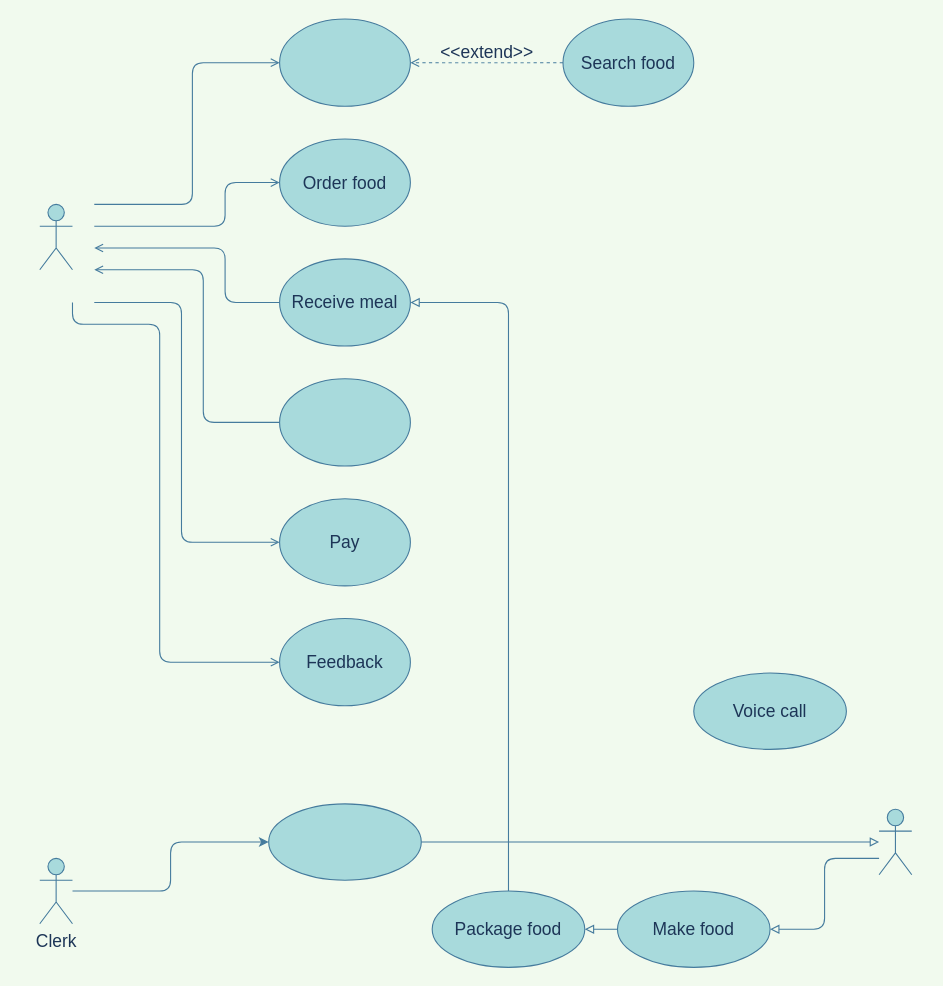
This 943x986 diagram has some shape labels left out. Each missing label, with the box of its shape:
Customer: (39, 203, 72, 270)
Get order: (268, 803, 421, 880)
Kitchen: (878, 808, 912, 875)
Receive invoice: (278, 378, 410, 466)
View menu: (278, 18, 410, 106)
